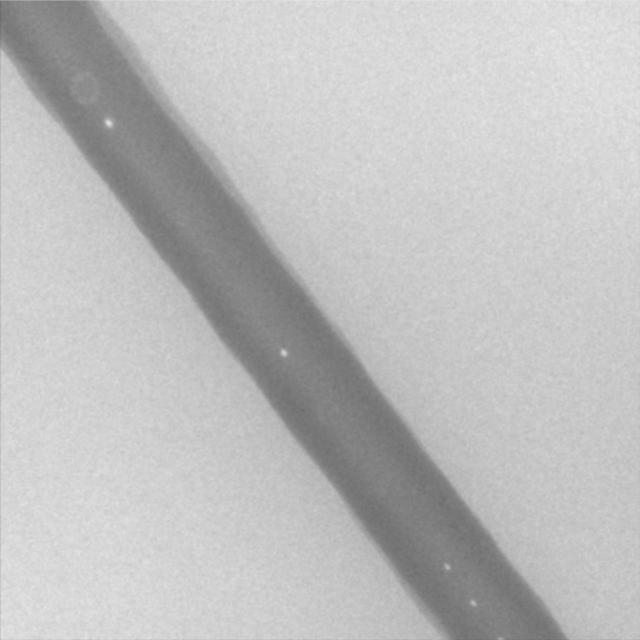air hole: (278, 345, 288, 359), (103, 117, 114, 128), (442, 560, 452, 572), (468, 597, 478, 609)
hollow bead: (68, 69, 101, 107)
